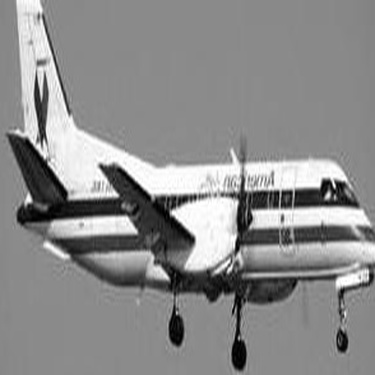airplane: (1, 2, 368, 372)
